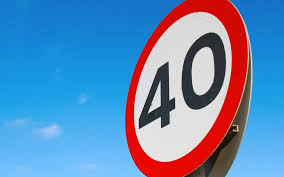Speed_limit_40km: (121, 1, 250, 177)
